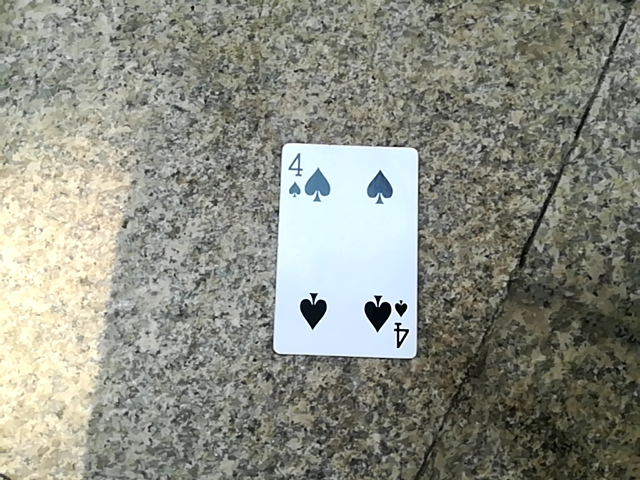ht 4: (257, 134, 411, 368)
